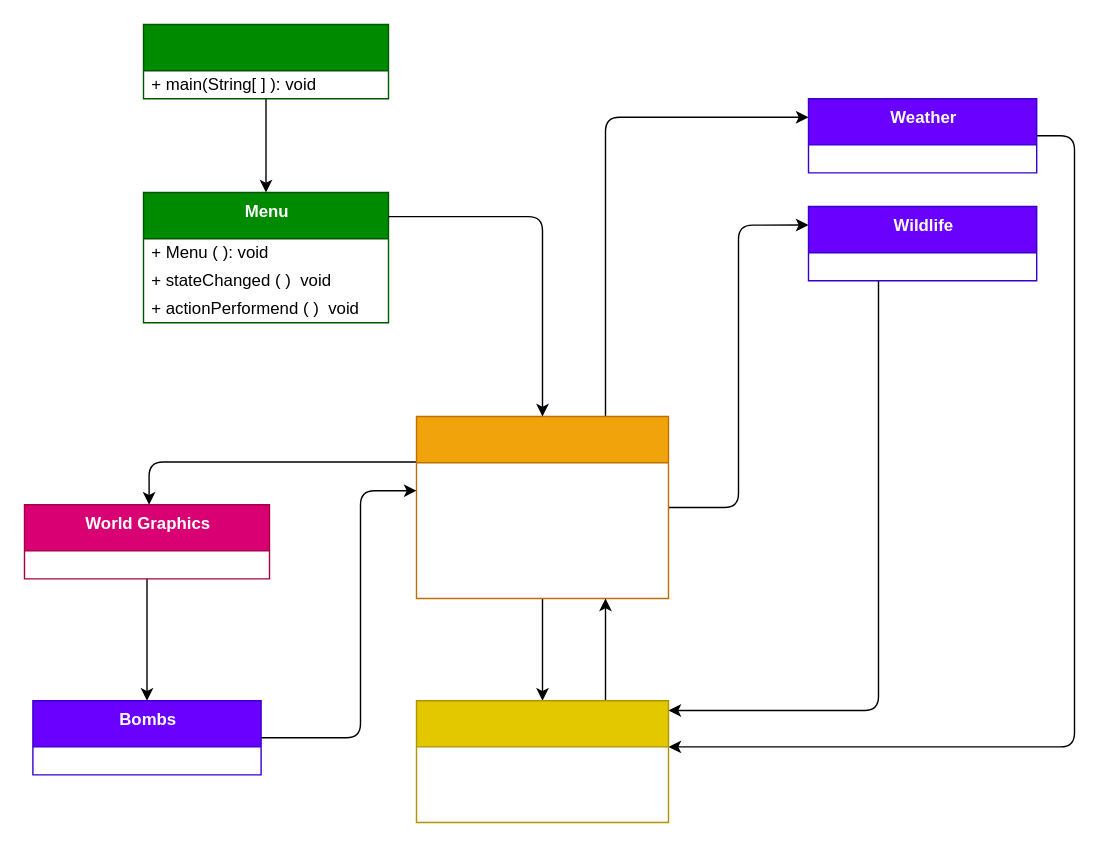
Image size: 1110x847. Some labels were removed from this diagram. The shapes that lost their labels are listed below. From the top down, each one's box as (x1, y1, x2, y2) in pixels, then its label:
(142, 23, 388, 99): Driver
(415, 415, 668, 598): World
(415, 699, 668, 822): Cell
